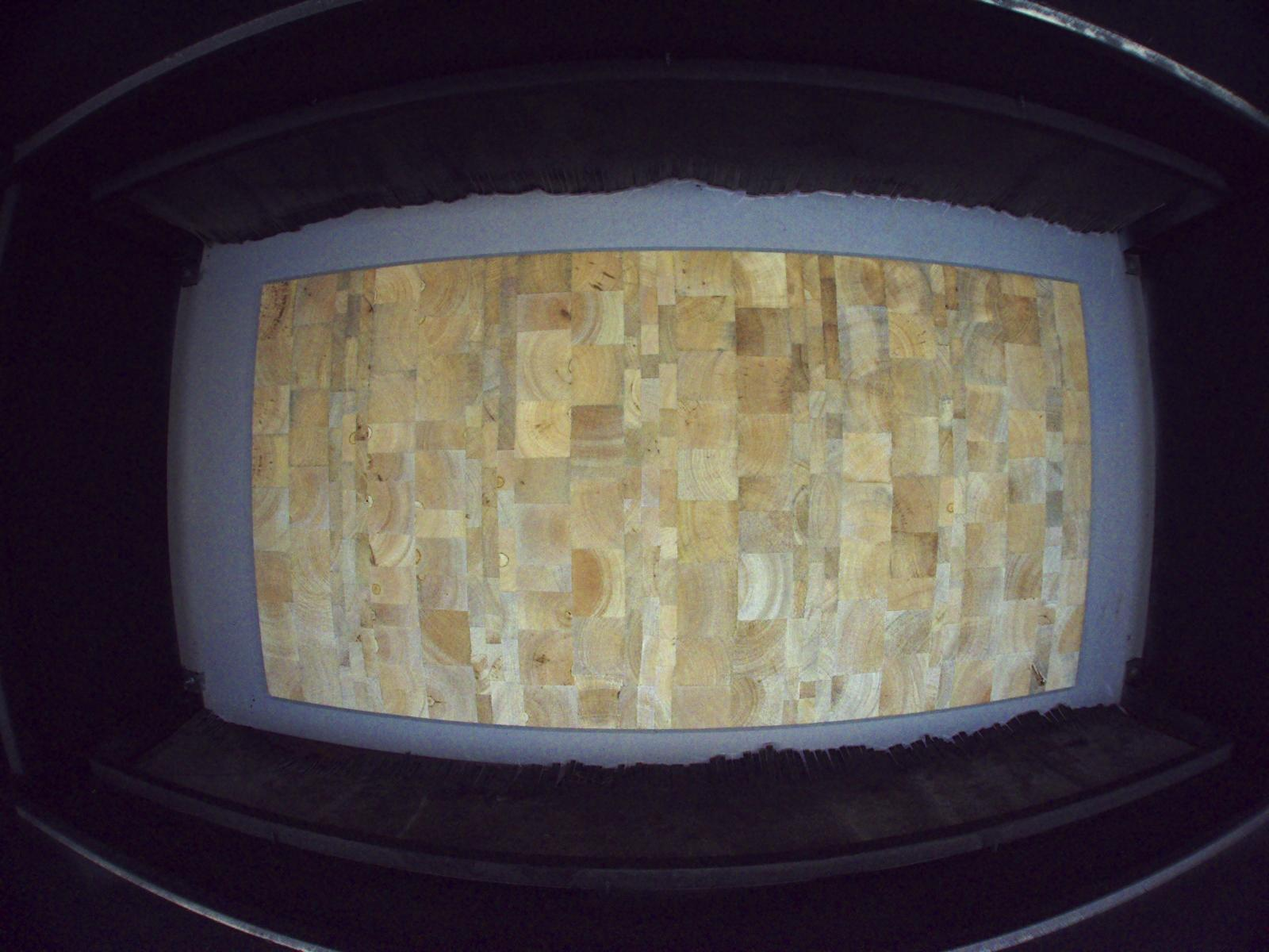nudillo: (1031, 662, 1047, 688)
